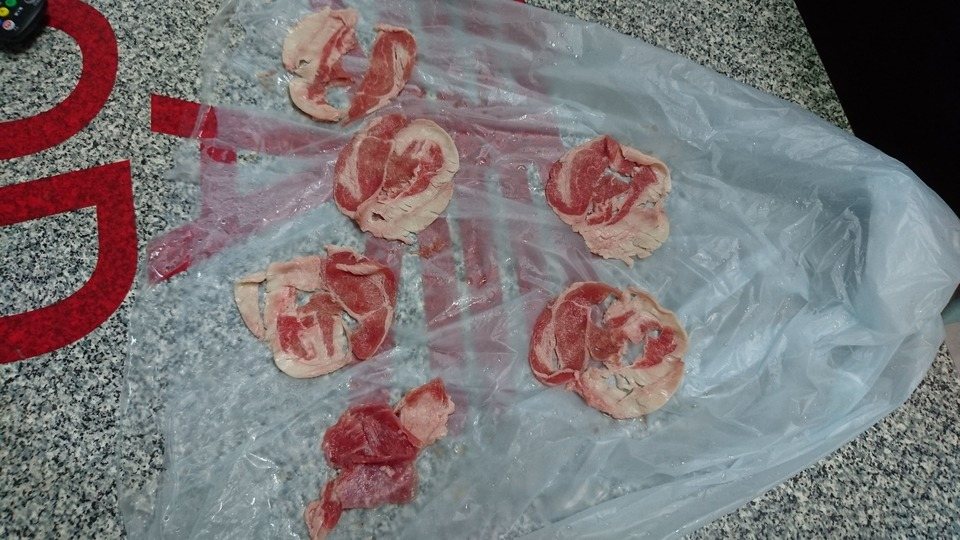restructured meat: (280, 380, 465, 540), (232, 244, 406, 382), (528, 276, 702, 414), (542, 123, 680, 266), (327, 110, 458, 249), (274, 4, 427, 121)
